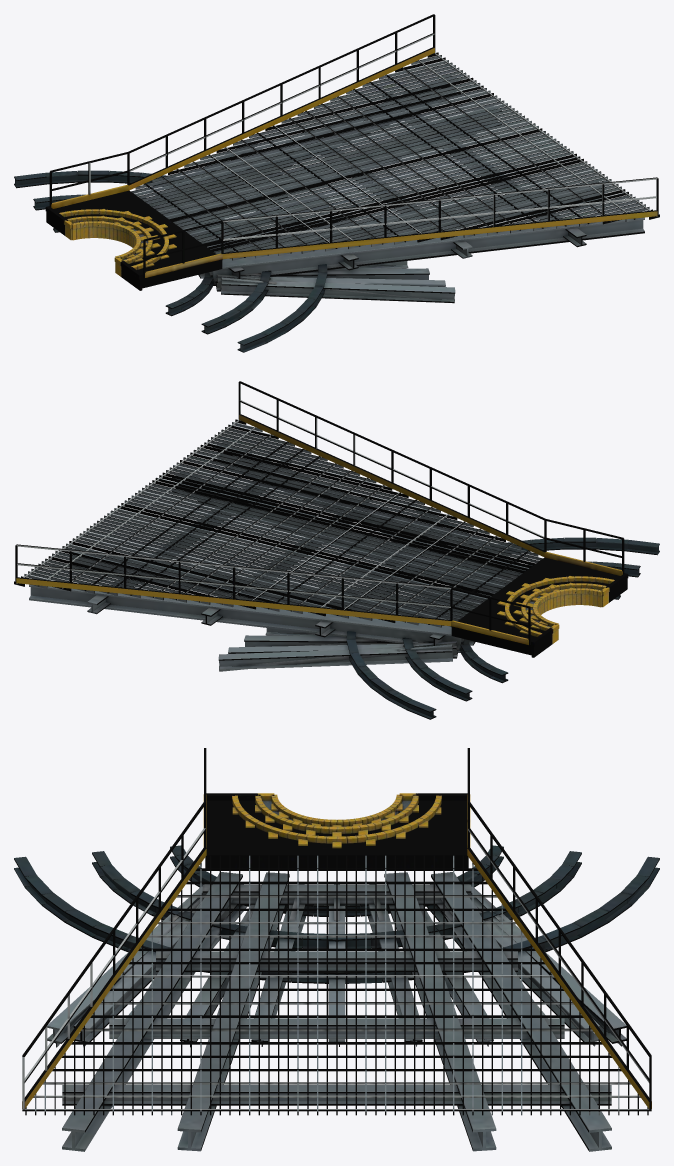
Rendered from platform_half.glb.
3 renders of one model, top to bottom at view 1: azimuth 30°, elevation 25°; view 2: azimuth 150°, elevation 25°; view 3: azimuth 270°, elevation 25°, orthographic. The views are drawn at different scales.
Parts seen in each view (by area): view 1: body, slot_cut__l, slot_cut__m, slot_cut__s; view 2: body, slot_cut__l, slot_cut__s, slot_cut__m; view 3: body, slot_cut__l, slot_cut__m, slot_cut__s.
Boxes of the visible parts, x1,y1,x2,y2 form: body: (14,14,659,352); slot_cut__l: (45,191,222,290); slot_cut__m: (46,190,214,289); slot_cut__s: (46,192,215,289); body: (14,381,659,719); slot_cut__l: (451,557,628,657); slot_cut__s: (459,573,625,656); slot_cut__m: (461,565,627,656); body: (14,748,659,1151); slot_cut__l: (205,793,468,868); slot_cut__m: (205,793,468,868); slot_cut__s: (206,793,468,868).
Bounding box in the file's own units: 14.11 × 2.57 × 12.26.
4 materials, 4 textured.
